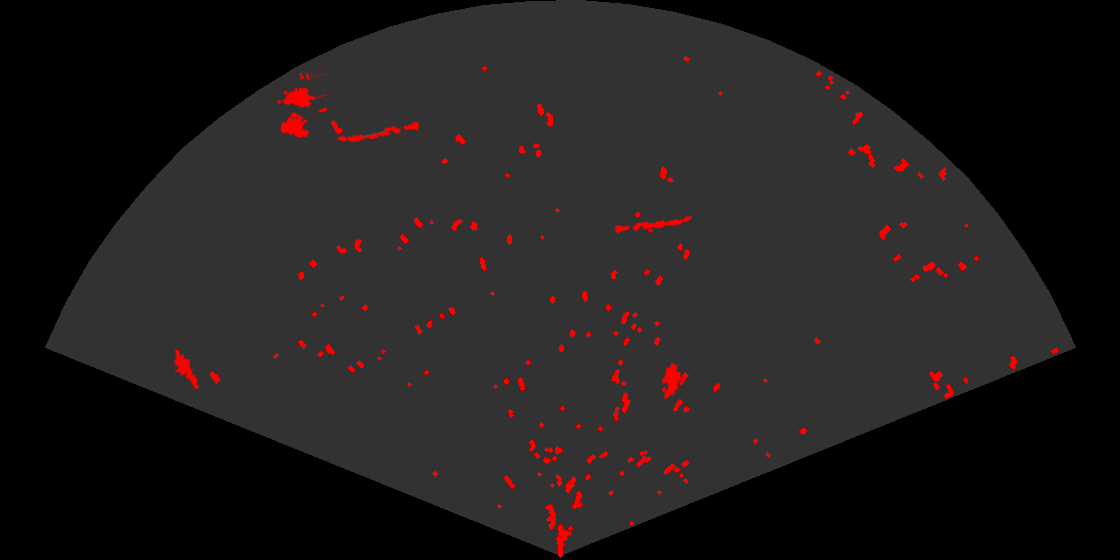AUV: (660, 361, 684, 401)
cage: (275, 73, 327, 140)
chain: (335, 120, 423, 144), (612, 214, 694, 235)
frogman: (172, 350, 200, 392)
